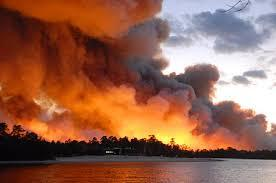smoke: (0, 1, 275, 148)
